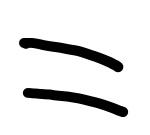eqv: (19, 37, 128, 117)
